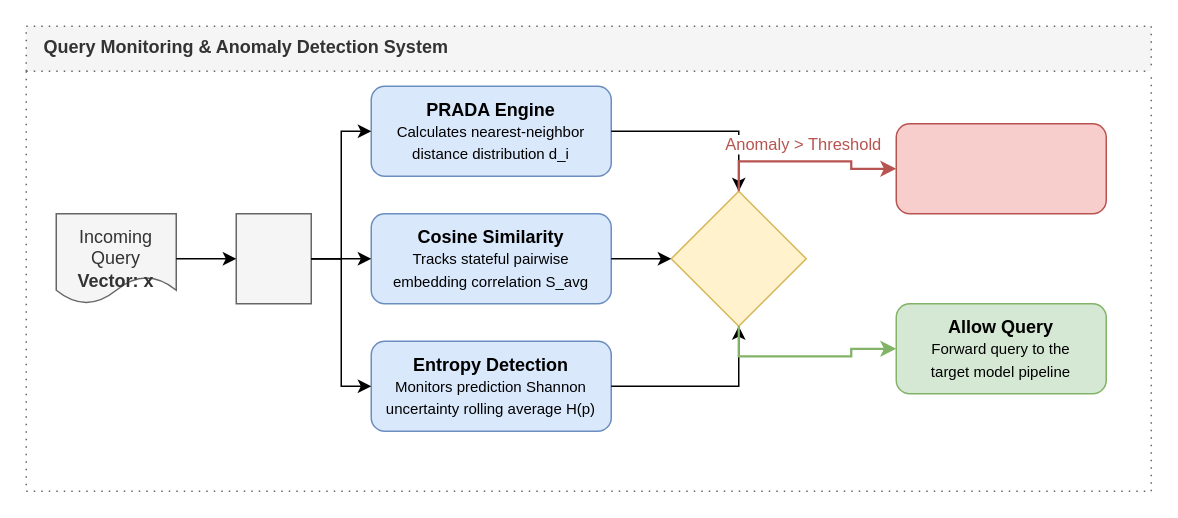
Some shapes in this 1178 by 518 pixel diagram are drawn without their labels. Here are the shapes that lost their labels. From the top down, the centre of each, then its label:
(1000,168): Flag / Block Query Reject request with HTTP 403 / 429
(273,258): Query Router
(738,258): Anomaly Evaluator Aggregated Risk Score
